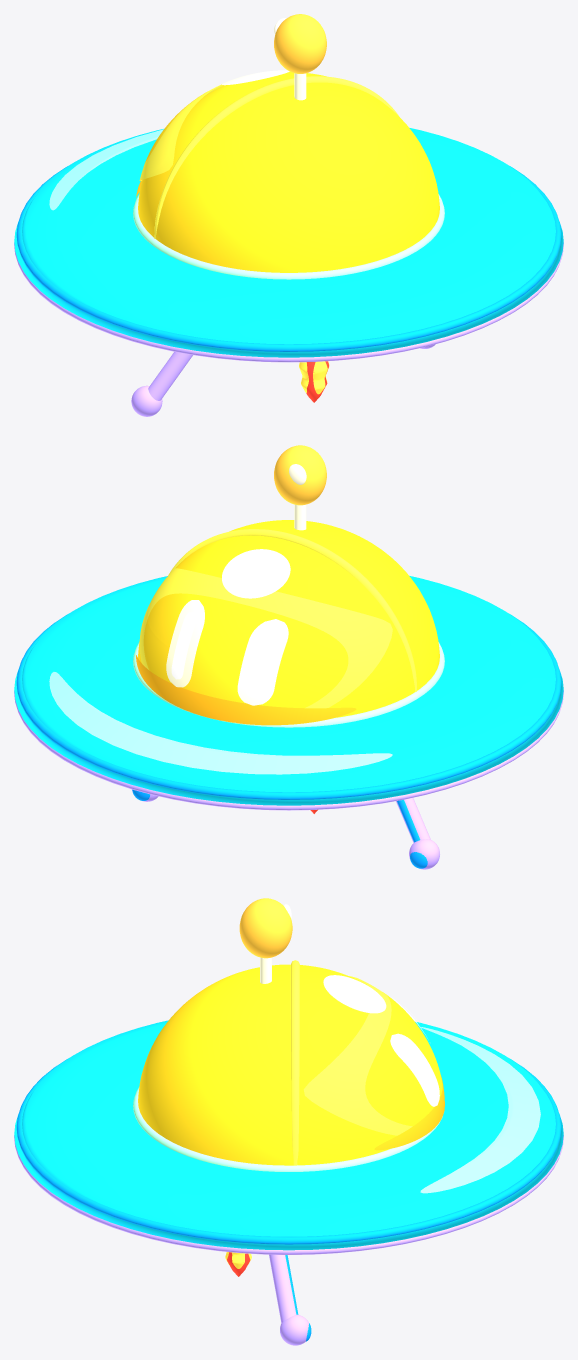
Rendered from ship-04.glb.
3 views of the same model, one above another, from view 1: azimuth 30°, elevation 25°; view 2: azimuth 150°, elevation 25°; view 3: azimuth 270°, elevation 25° (orthographic).
Visible parts, largest first — view 1: 아담스키 S, engine-flame; view 2: 아담스키 S; view 3: 아담스키 S.
Boxes of the visible parts, left/top/right/bottom form: 아담스키 S: left=14, top=14, right=563, bottom=416; engine-flame: left=299, top=361, right=329, bottom=402; 아담스키 S: left=14, top=445, right=563, bottom=869; 아담스키 S: left=14, top=898, right=563, bottom=1345.
Size of the model in its own units: 27 by 20.41 by 27.
